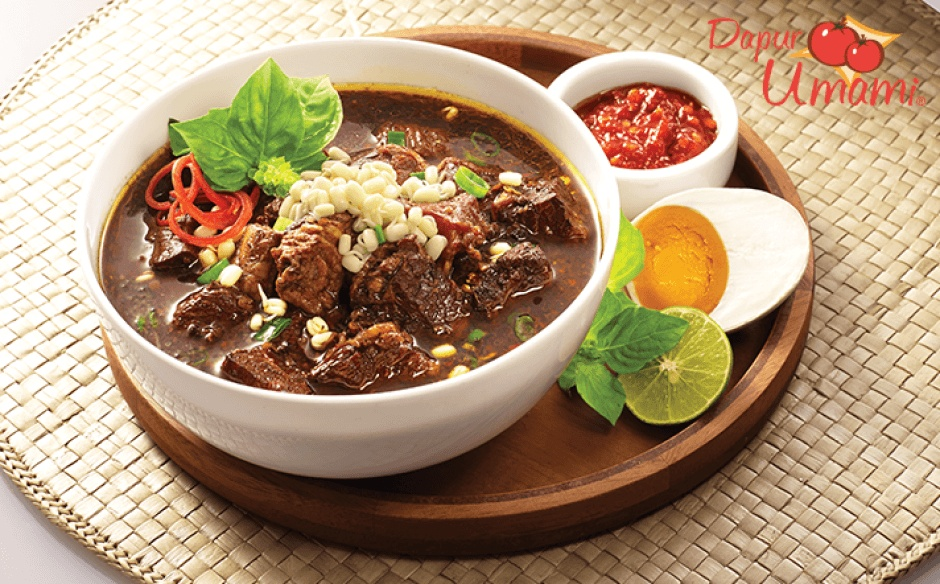rawon: (80, 56, 621, 363)
